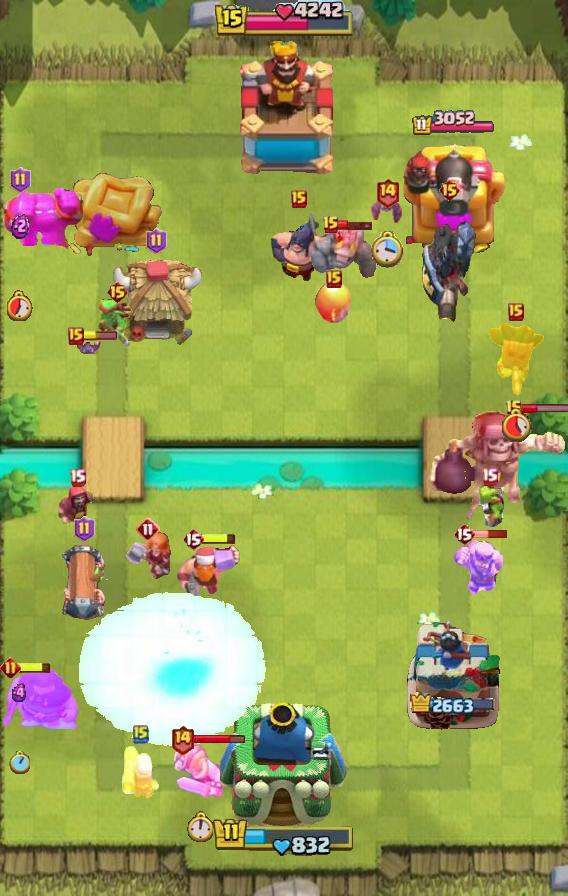arrows: (453, 539, 503, 598)
barbarian-barrel: (370, 198, 404, 226), (74, 333, 104, 357)
battle-healer: (60, 545, 108, 625)
bowler: (55, 482, 99, 534)
clock: (212, 816, 356, 858), (213, 0, 355, 40)
clone: (0, 187, 86, 273)
electro-giant: (426, 409, 568, 523)
electro-spirit: (11, 213, 29, 239), (10, 683, 29, 703)
elixir: (372, 231, 405, 269), (499, 406, 533, 441), (187, 811, 214, 841), (7, 291, 33, 322), (9, 750, 30, 773)
emote: (193, 735, 247, 746), (521, 402, 568, 413), (201, 531, 237, 544), (16, 662, 52, 675), (338, 219, 374, 231), (82, 331, 118, 341), (472, 529, 508, 539)
giant-snowball: (96, 299, 138, 351)
goblin-barrel: (486, 321, 546, 397)
goblin-giant: (172, 742, 226, 798)
hog: (314, 281, 354, 325)
hog-rider: (123, 532, 173, 580)
inferno-dragon: (420, 206, 478, 326)
king-tower: (220, 702, 348, 827), (228, 41, 340, 181)
mega-knight: (75, 589, 272, 751)
mighty-miner: (177, 542, 243, 606)
monk: (268, 206, 330, 284)
prince: (109, 258, 203, 348)
queen-tower: (404, 617, 502, 731)
royal-hog: (0, 665, 80, 729)
selected: (412, 111, 497, 138), (411, 692, 498, 718)
text: (376, 177, 401, 208), (170, 725, 195, 756), (136, 517, 160, 541), (438, 178, 461, 202), (106, 280, 129, 304), (9, 167, 30, 193), (146, 228, 167, 254), (73, 516, 94, 542), (453, 522, 475, 546), (182, 527, 204, 551), (0, 658, 20, 679), (322, 215, 340, 235), (505, 399, 523, 419), (481, 467, 499, 485), (69, 469, 87, 487), (133, 724, 149, 744), (291, 190, 307, 208), (326, 270, 342, 288), (508, 303, 524, 321), (68, 327, 84, 345)
tombstone: (120, 743, 162, 801)
tower-bar: (399, 138, 507, 256)
valkyrie-evolution: (310, 225, 376, 285)
zap: (471, 480, 507, 530)
